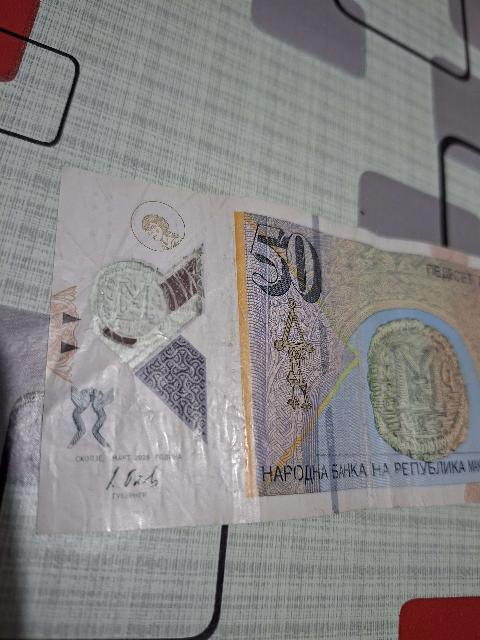50_note: (38, 163, 479, 526)
